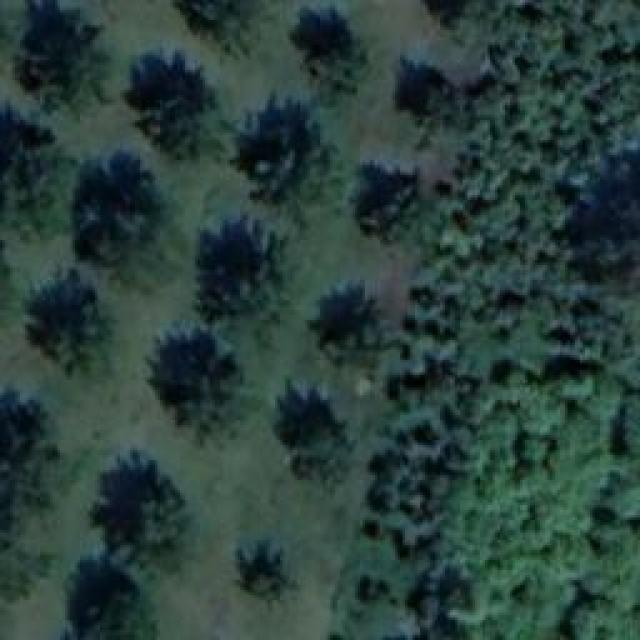Tree: (190, 218, 287, 321), (10, 0, 108, 100), (75, 160, 166, 264), (232, 103, 329, 200), (128, 50, 222, 148), (145, 323, 237, 420), (95, 455, 179, 553), (22, 273, 106, 365), (0, 393, 50, 536), (3, 103, 57, 231), (65, 560, 150, 640), (290, 3, 368, 90), (350, 160, 428, 243), (275, 385, 353, 467), (313, 283, 385, 371), (393, 58, 465, 136), (232, 540, 302, 607), (175, 0, 272, 46), (0, 530, 47, 609), (348, 568, 396, 612), (420, 0, 475, 30), (355, 511, 392, 546)
